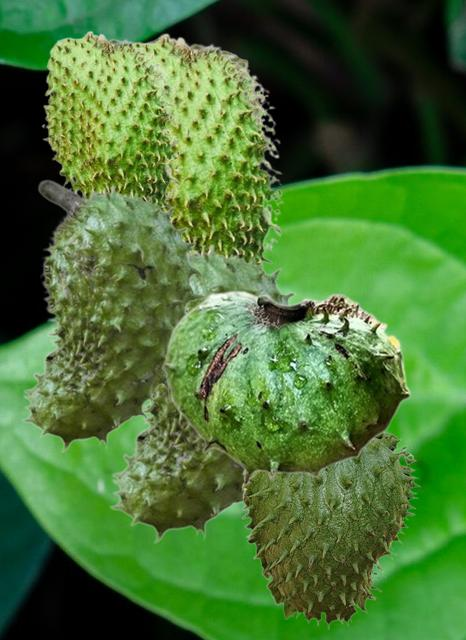guyabano: (108, 242, 296, 543), (20, 179, 206, 452), (161, 290, 410, 486), (134, 32, 284, 272), (241, 432, 420, 629), (41, 30, 181, 210)
